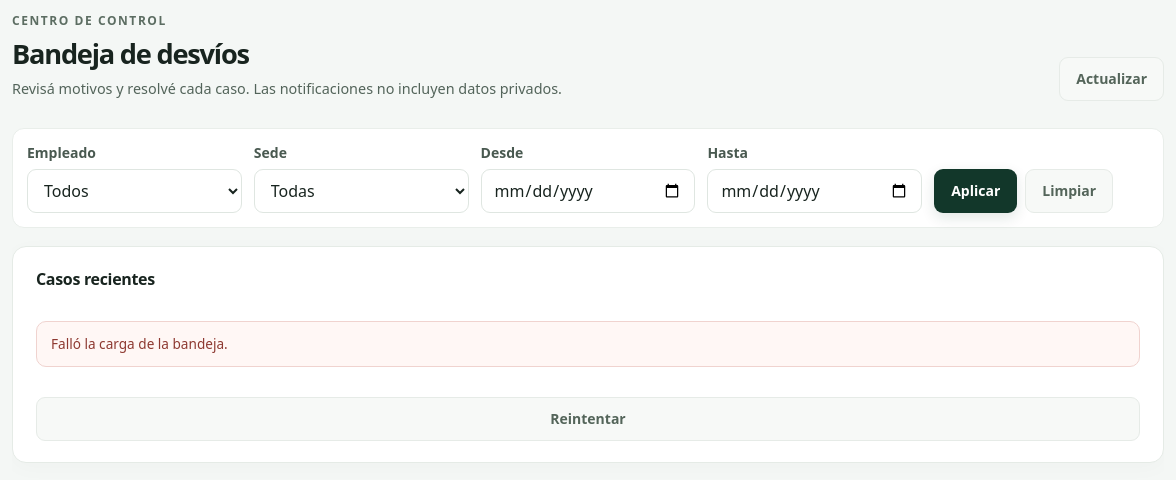
Test: administración de desvíos y marcas › distingue un fallo de carga de la bandeja vacía y permite reintentar
The image size is (1176, 480).
Expected: the text "Falló la carga de la bandeja." is shown, top-left (36, 321), bottom-right (1140, 367)
Click the button "Reintentar". click: click(588, 419)
box: top-left (36, 397), bottom-right (1140, 441)
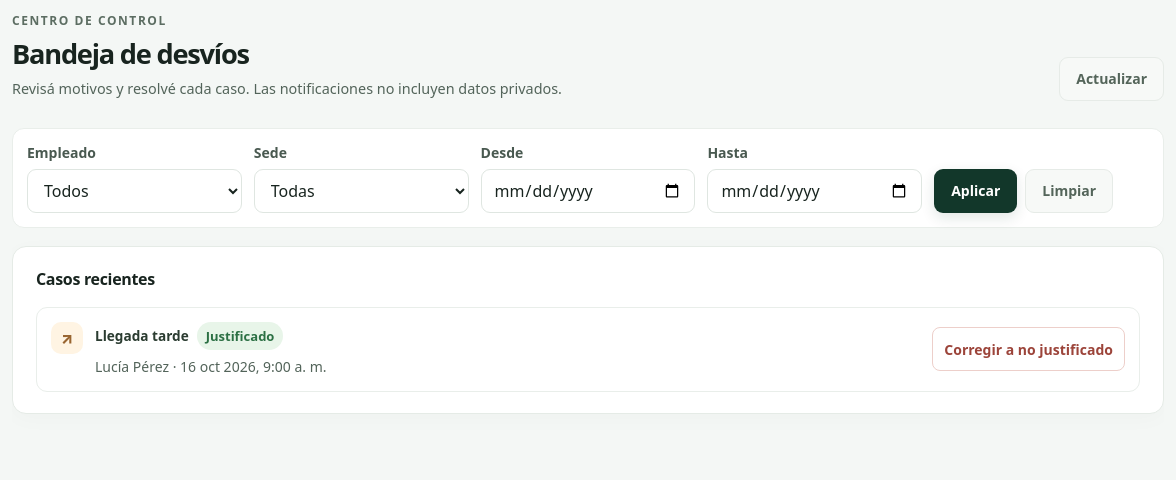
Expected: the text "Lucía Pérez · 16 oct 2026, 9:00 a. m." is shown, top-left (95, 357), bottom-right (326, 376)
